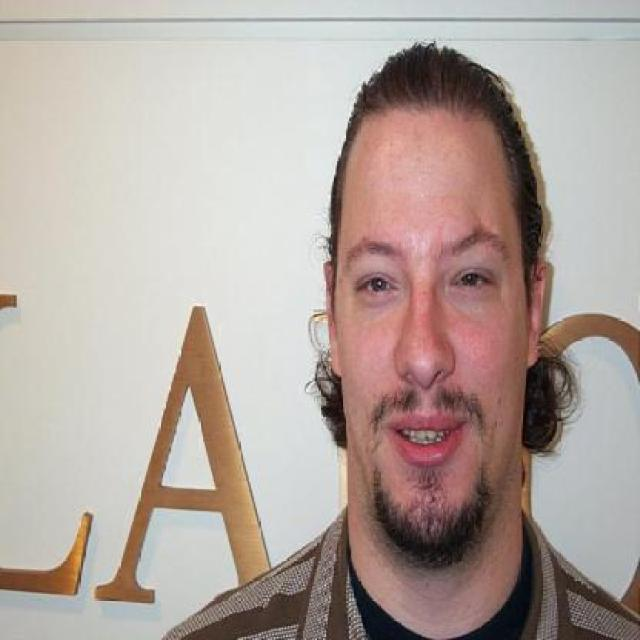awake: (450, 261, 495, 301), (354, 266, 398, 302)
